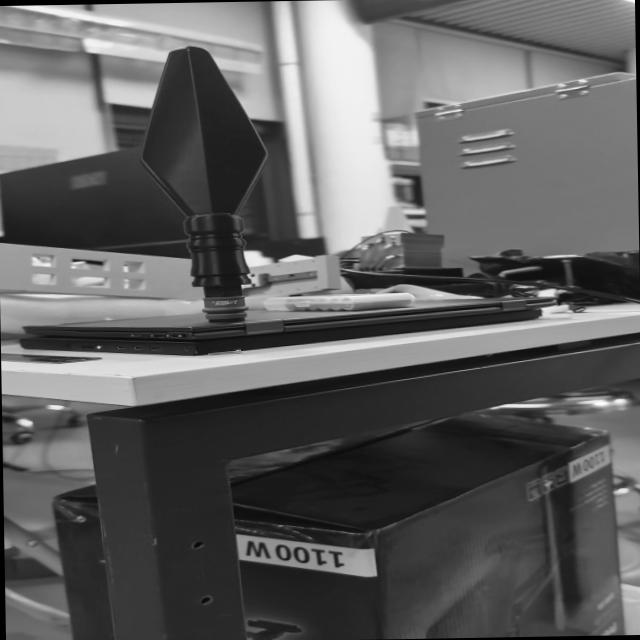base: (202, 295, 249, 321)
